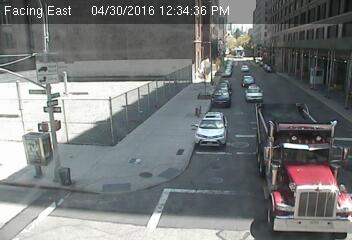neg: (39, 127, 67, 164), (168, 166, 195, 202), (103, 76, 130, 111), (197, 178, 221, 211), (128, 68, 152, 100), (291, 122, 314, 154), (138, 145, 158, 172), (96, 123, 116, 149), (173, 42, 192, 68), (224, 57, 243, 82), (307, 70, 325, 95), (73, 71, 91, 95), (40, 88, 57, 110), (274, 70, 289, 90), (191, 103, 205, 122), (69, 190, 83, 209), (245, 61, 257, 78), (251, 144, 263, 161), (203, 68, 215, 83), (194, 88, 201, 98)
